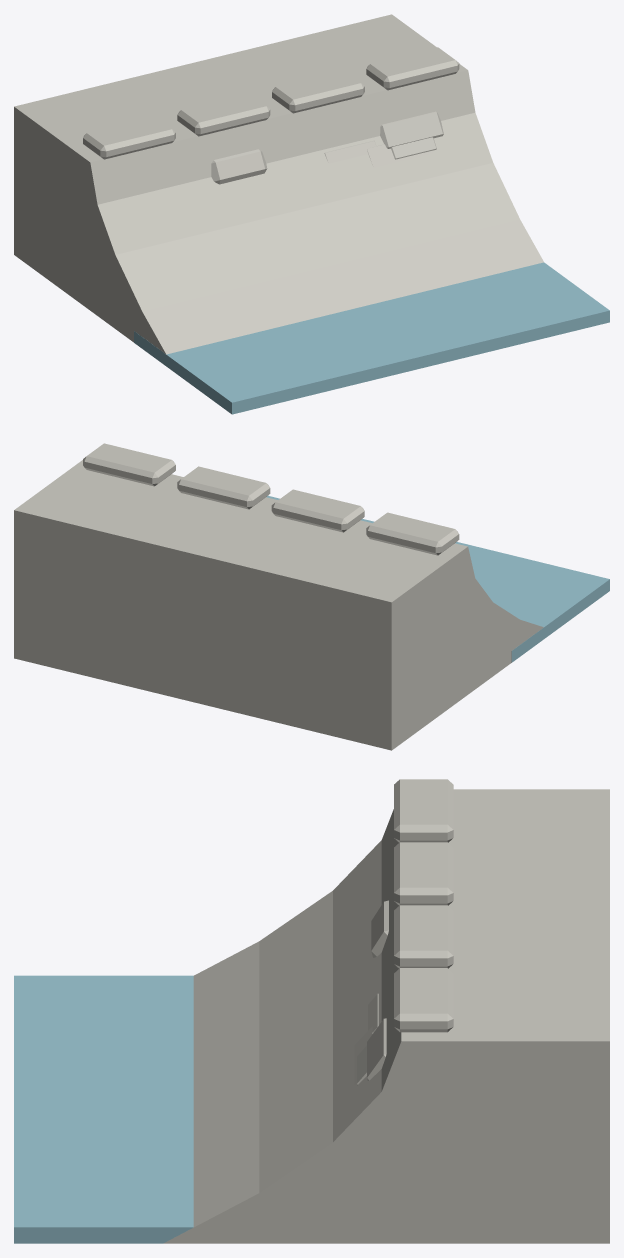
Rendered from feudal-japan-castle-town-moat-edge-straight-0bc2f727__26588.glb.
3 renders of one model, top to bottom at view 1: azimuth 30°, elevation 25°; view 2: azimuth 150°, elevation 25°; view 3: azimuth 270°, elevation 25°, orthographic. The views are drawn at different scales.
Parts seen in each view (by area): view 1: moat-edge-straight; view 2: moat-edge-straight; view 3: moat-edge-straight.
Boxes of the visible parts, x1,y1,x2,y2 form: moat-edge-straight: (14, 14, 609, 414); moat-edge-straight: (14, 443, 609, 750); moat-edge-straight: (14, 779, 609, 1243).
Size of the model in its own units: 4 by 1.64 by 4.
